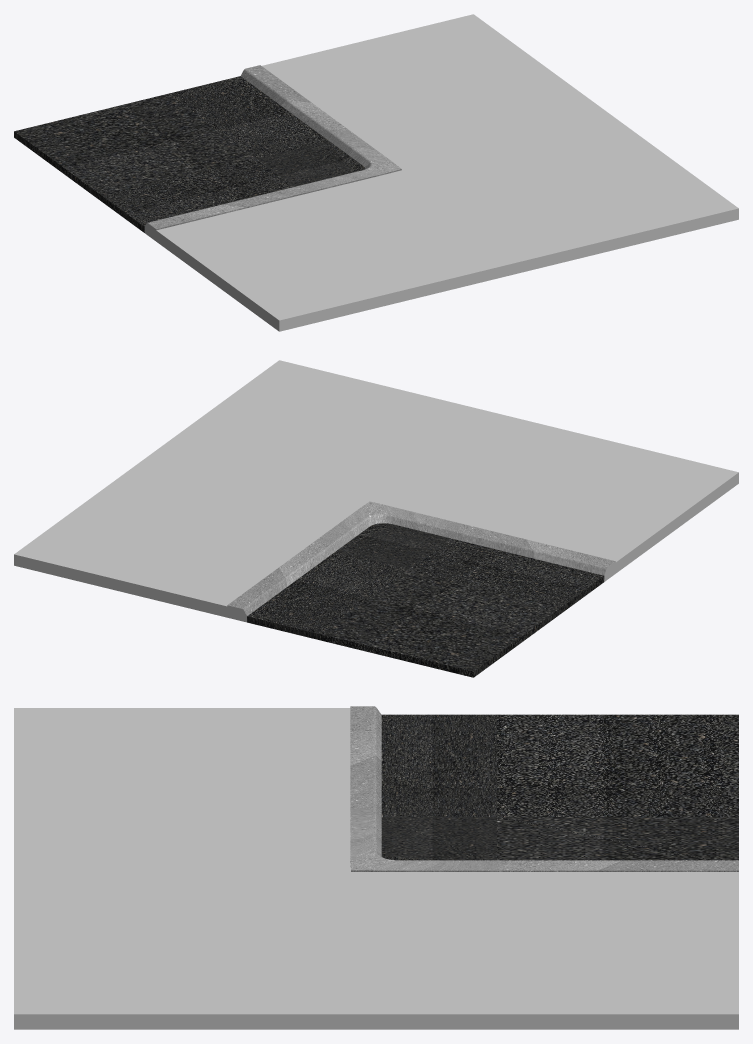
File: tile11.fbx
3 renders of one model, top to bottom at view 1: azimuth 30°, elevation 25°; view 2: azimuth 150°, elevation 25°; view 3: azimuth 270°, elevation 25°, orthographic. The views are drawn at different scales.
Parts seen in each view (by area): view 1: Cube; view 2: Cube; view 3: Cube.
Part boxes in pixels (x1,y1,x2,y2): Cube: (14, 14, 738, 331); Cube: (14, 360, 738, 677); Cube: (14, 706, 738, 1029).
Size of the model in its own units: 600 by 15.53 by 600.
